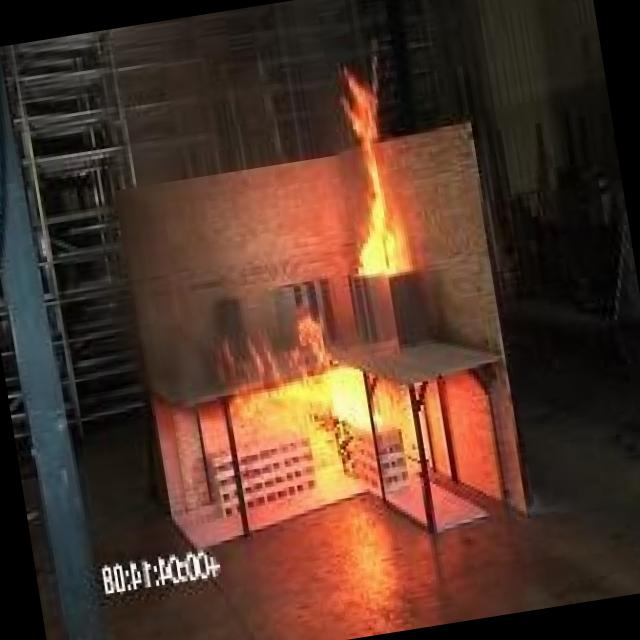fire: (287, 53, 466, 332), (200, 289, 427, 506)
